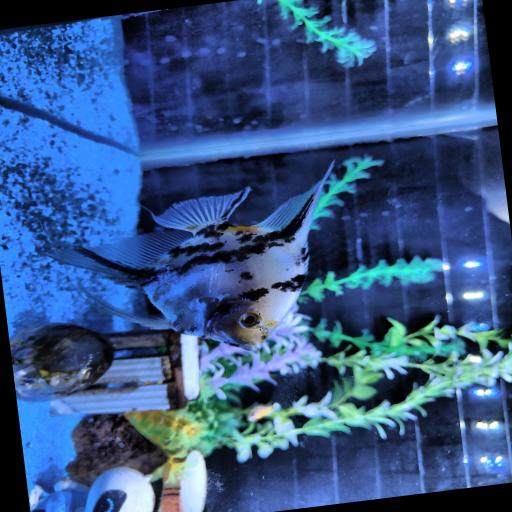Fish: (49, 164, 332, 350), (246, 404, 273, 422)
